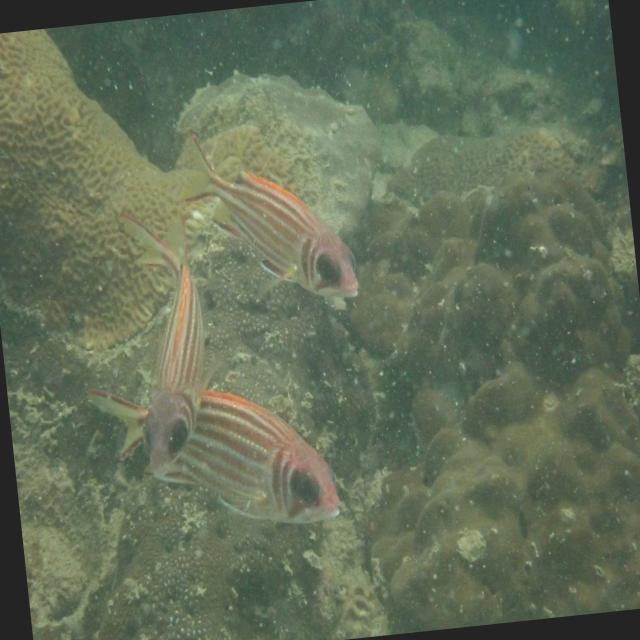Asker Baligi: (65, 189, 343, 547), (174, 111, 360, 316)
